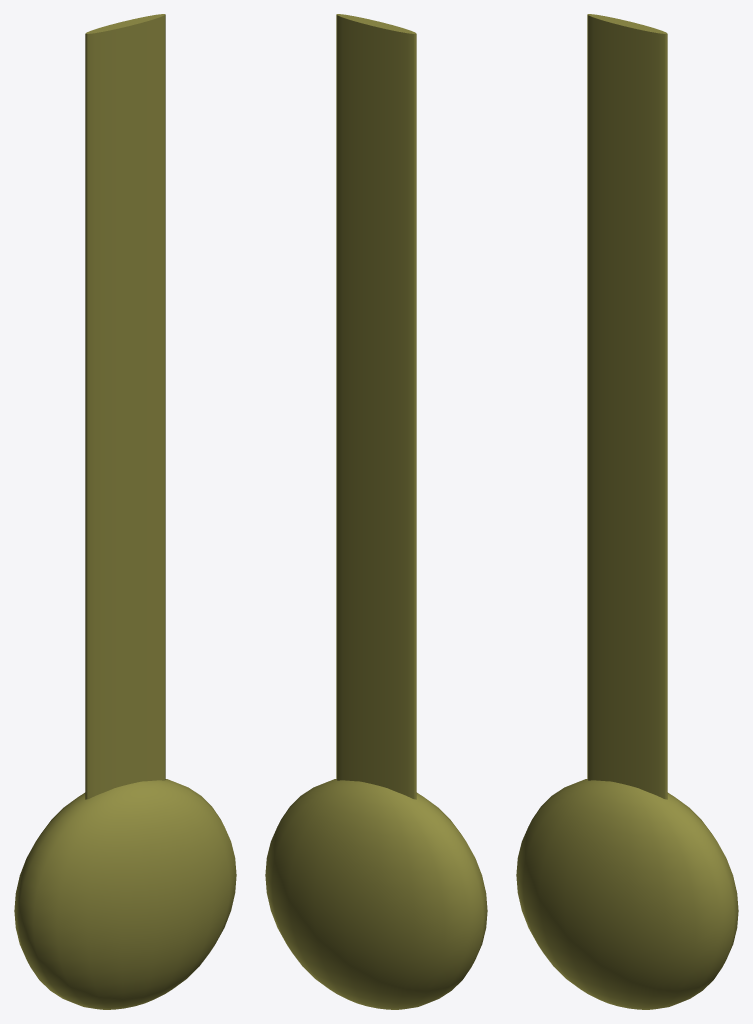
File: Pendulum.fbx
3 renders of one model, left to right at view 1: azimuth 30°, elevation 25°; view 2: azimuth 150°, elevation 25°; view 3: azimuth 330°, elevation 25°, orthographic.
Parts seen in each view (by area): view 1: Cylynder, Sphere; view 2: Cylynder, Sphere; view 3: Cylynder, Sphere.
Part boxes in pixels (left/top/right/bottom): Cylynder: left=85, top=14, right=165, bottom=799; Sphere: left=14, top=779, right=236, bottom=1009; Cylynder: left=336, top=14, right=416, bottom=799; Sphere: left=265, top=779, right=487, bottom=1009; Cylynder: left=587, top=14, right=667, bottom=799; Sphere: left=516, top=779, right=738, bottom=1009.
Size of the model in its own units: 0.4 by 1.76 by 0.2.
